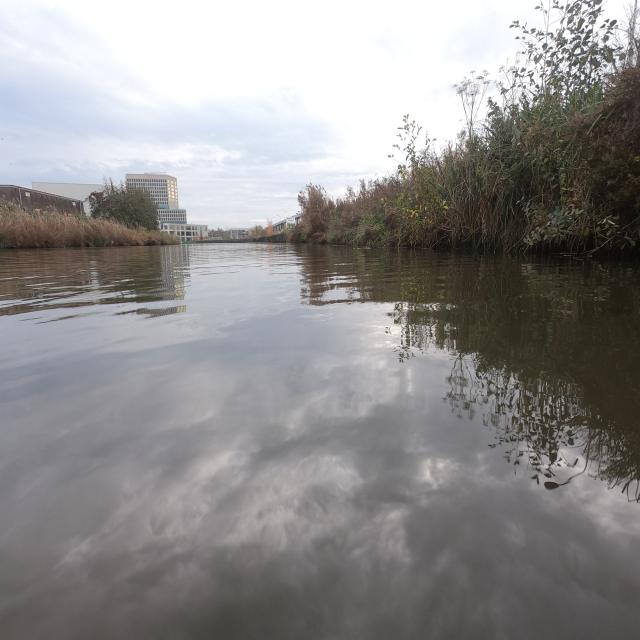reed: (299, 0, 640, 254), (1, 201, 175, 247)
sky: (2, 1, 534, 224)
water: (1, 240, 638, 639)
